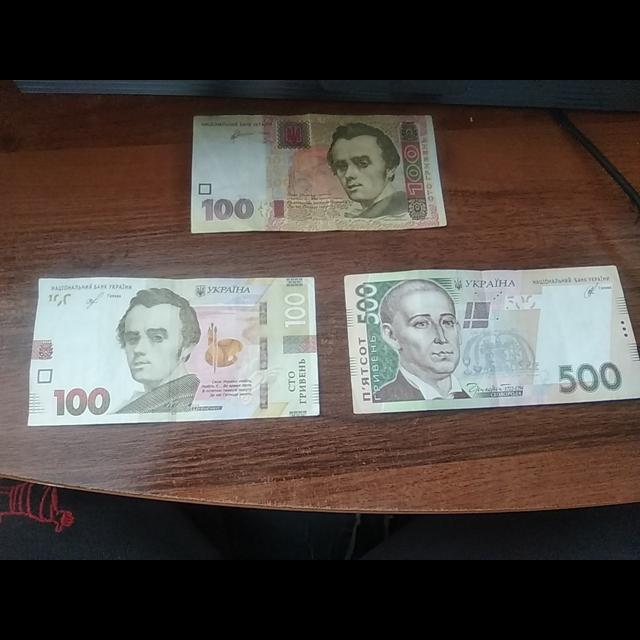100uah: (28, 277, 320, 426), (192, 113, 448, 235)
500uah: (344, 266, 640, 415)
